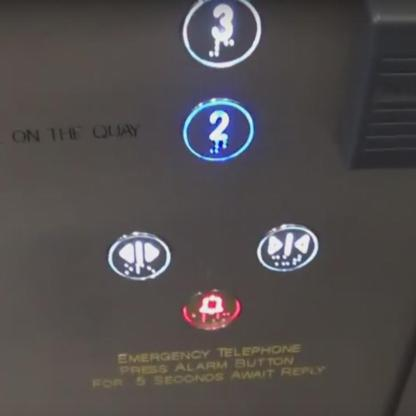2: (182, 98, 256, 161)
3: (181, 0, 263, 70)
alarm: (182, 287, 241, 333)
close: (255, 224, 320, 274)
open: (106, 229, 173, 281)
